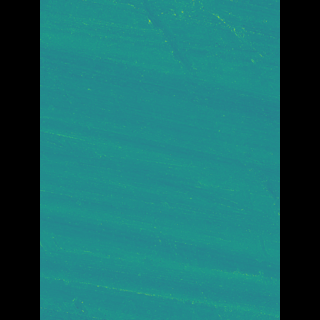Loch: (143, 0, 244, 283)
